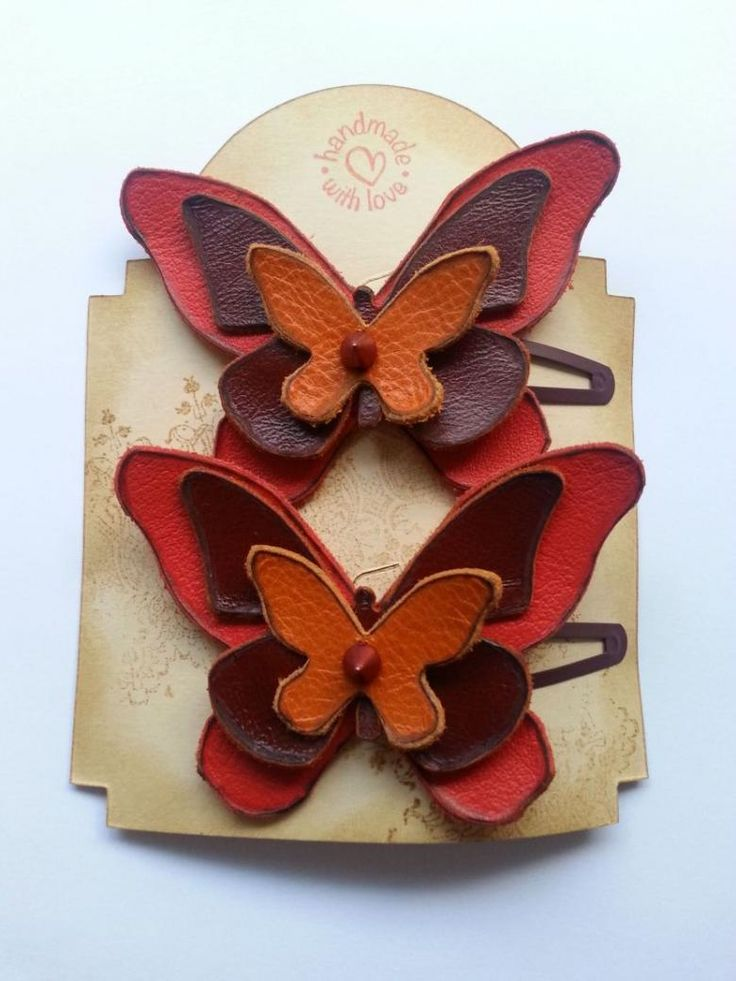cuero: (114, 128, 645, 824)
